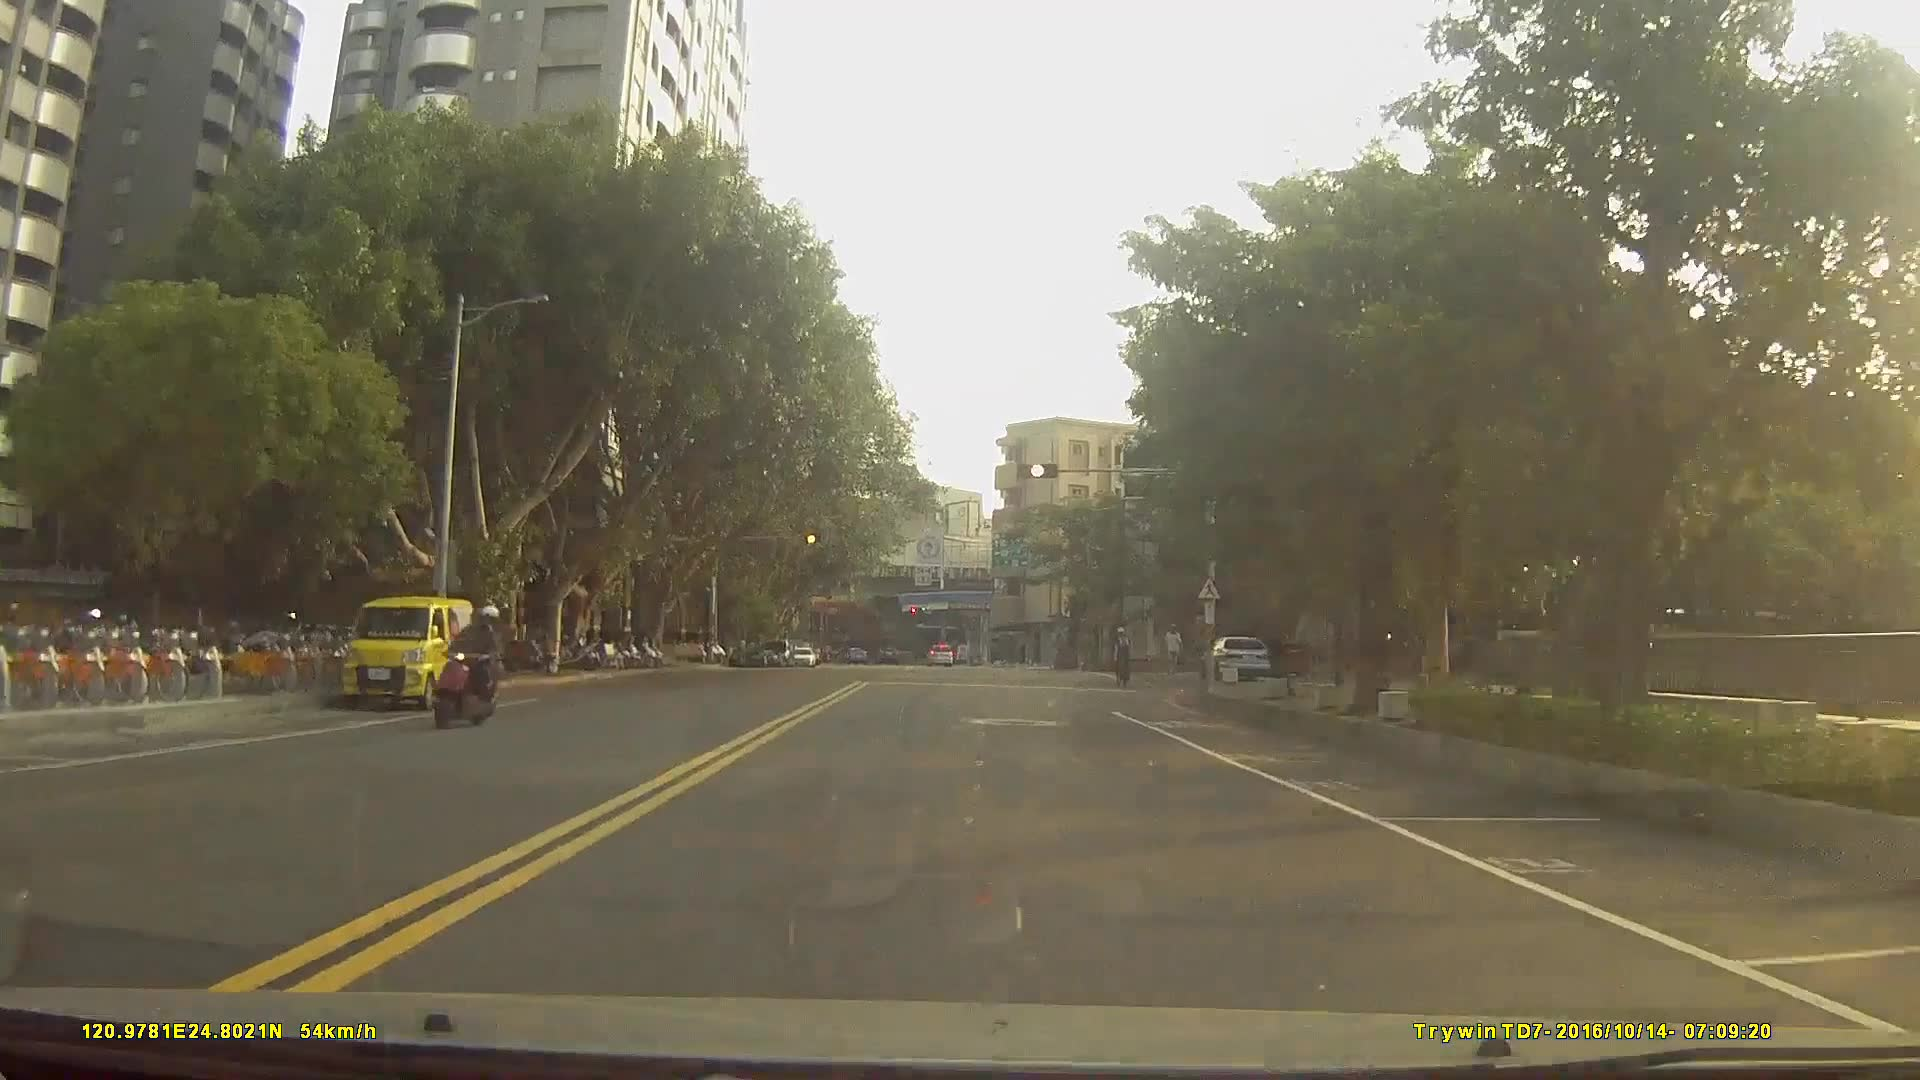pedestrian: (1164, 618, 1185, 679)
rider: (437, 603, 507, 730), (1112, 619, 1136, 679)
vehicle: (1198, 634, 1272, 680), (788, 642, 818, 664), (929, 643, 954, 667)
